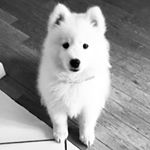puppy: (37, 2, 116, 150)
